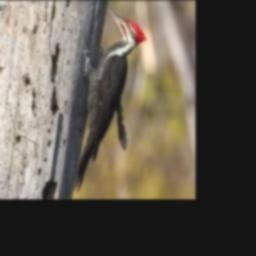Woodpecker: (73, 9, 147, 192)
